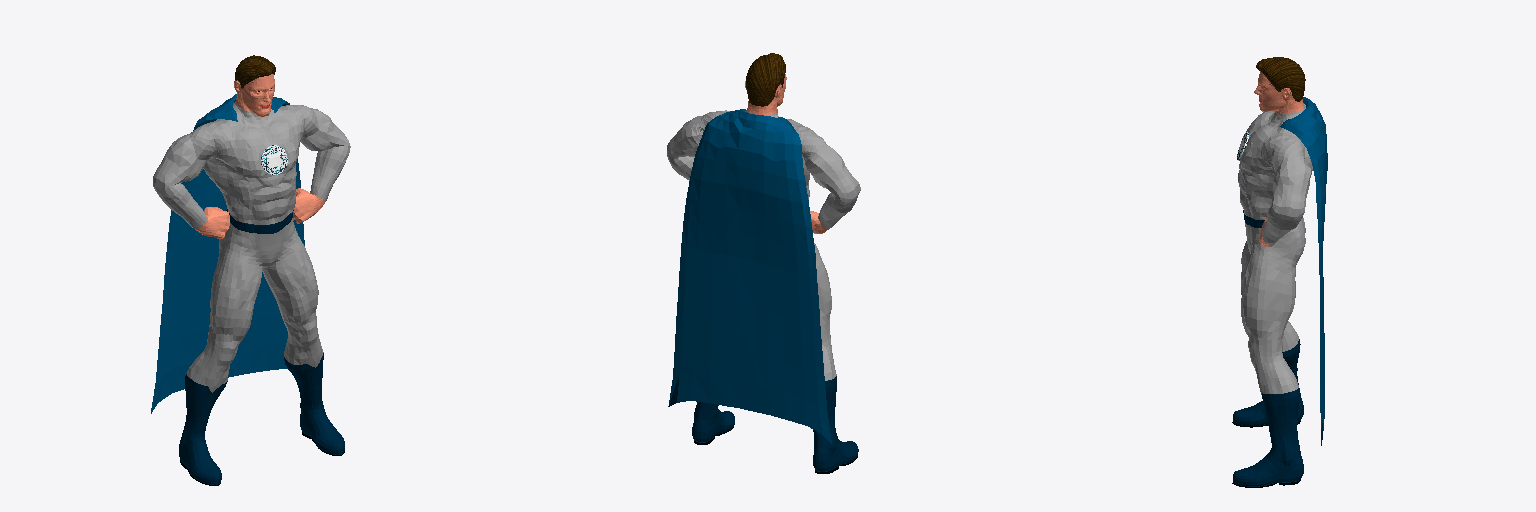
3 renders of one model, left to right at view 1: azimuth 30°, elevation 25°; view 2: azimuth 150°, elevation 25°; view 3: azimuth 270°, elevation 25°, orthographic.
Visible parts, largest first — view 1: SuperMan; view 2: SuperMan; view 3: SuperMan.
Boxes of the visible parts, <box> form: SuperMan: <box>151,55,350,485</box>; SuperMan: <box>667,53,860,473</box>; SuperMan: <box>1232,57,1327,487</box>.
Size of the model in its own units: 3.96 by 7.87 by 1.72.
Materials: 15 (2 with a texture image).